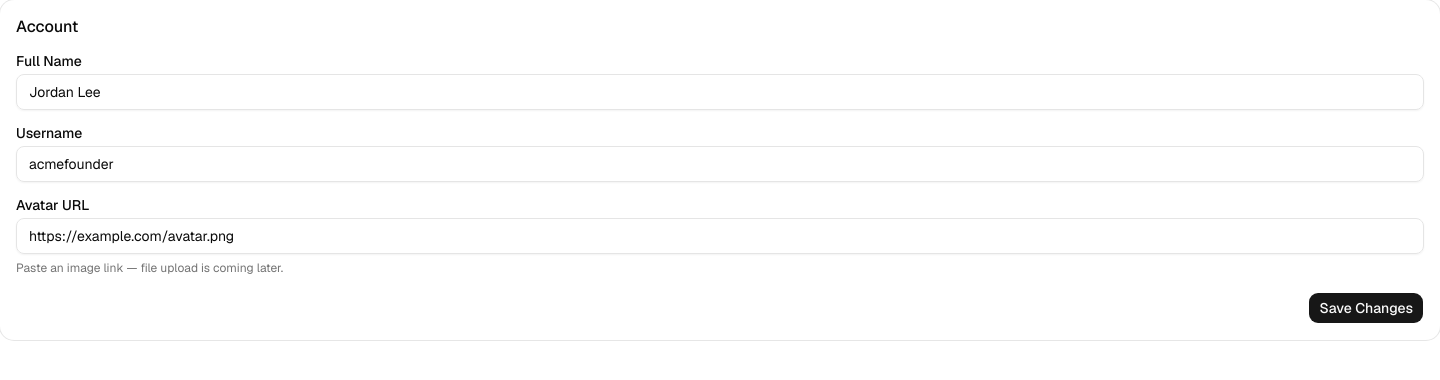
Test case: IndustryAccountSettingsForm › validates full name
Clear the field labelled "Full Name" at point(720, 92), box [16,74,1424,110]
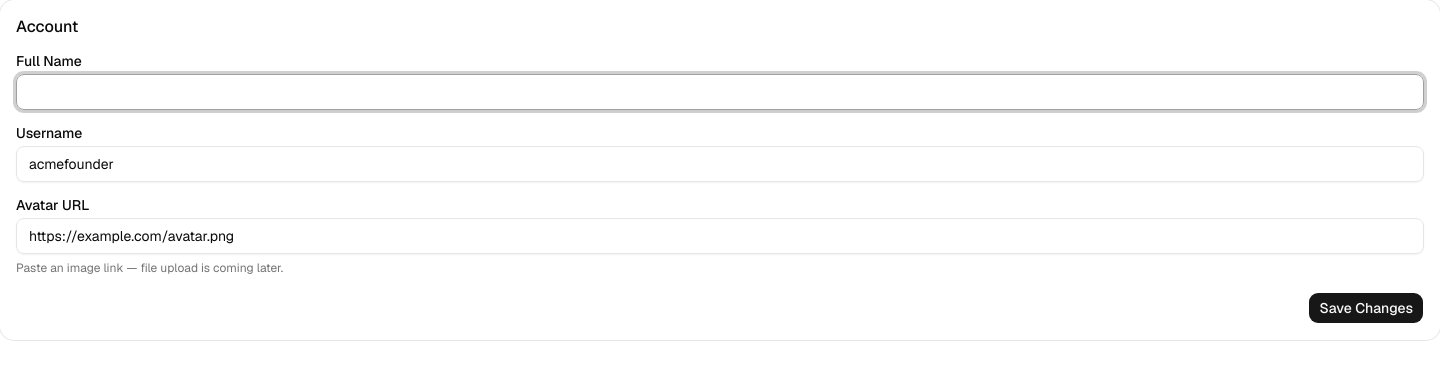
Click the button "Save Changes" at point(1366, 308), box [1308,292,1424,324]
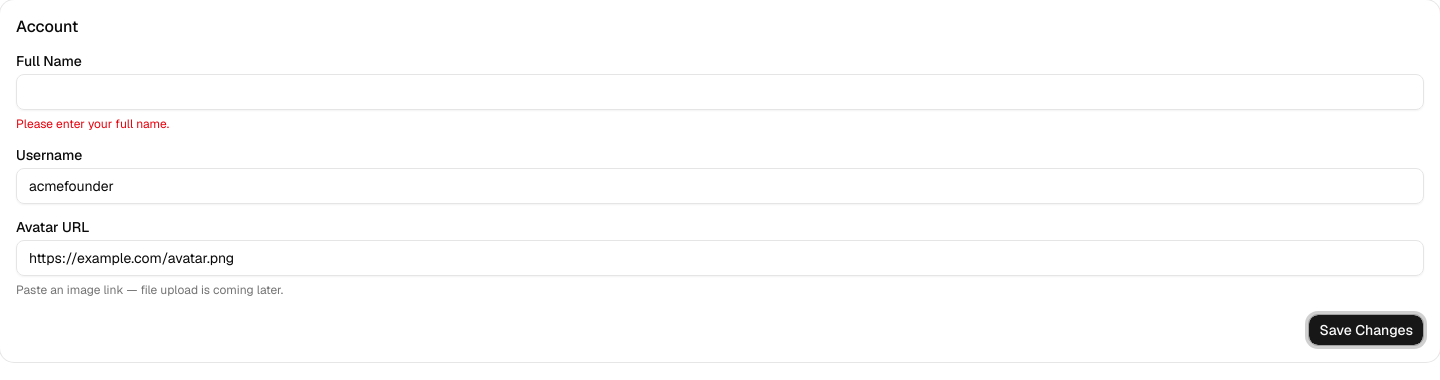
expect the text "Please enter your full name." is shown: met, box [16,116,169,132]
